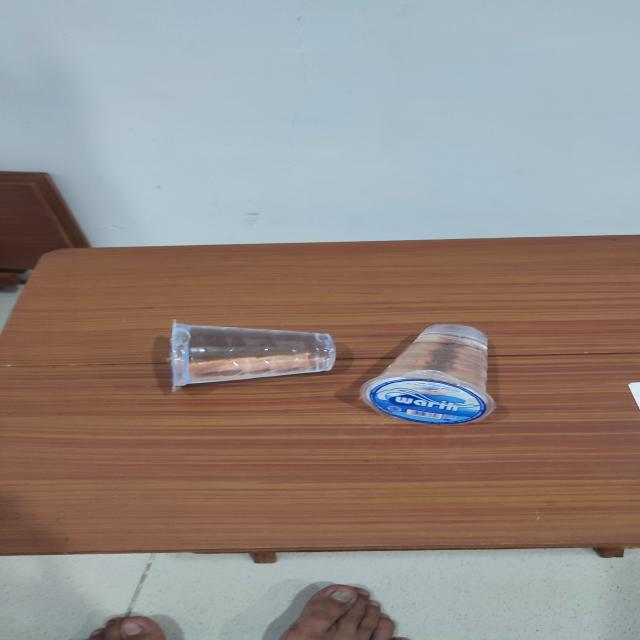air gelas: (350, 314, 516, 431), (150, 313, 345, 396)
